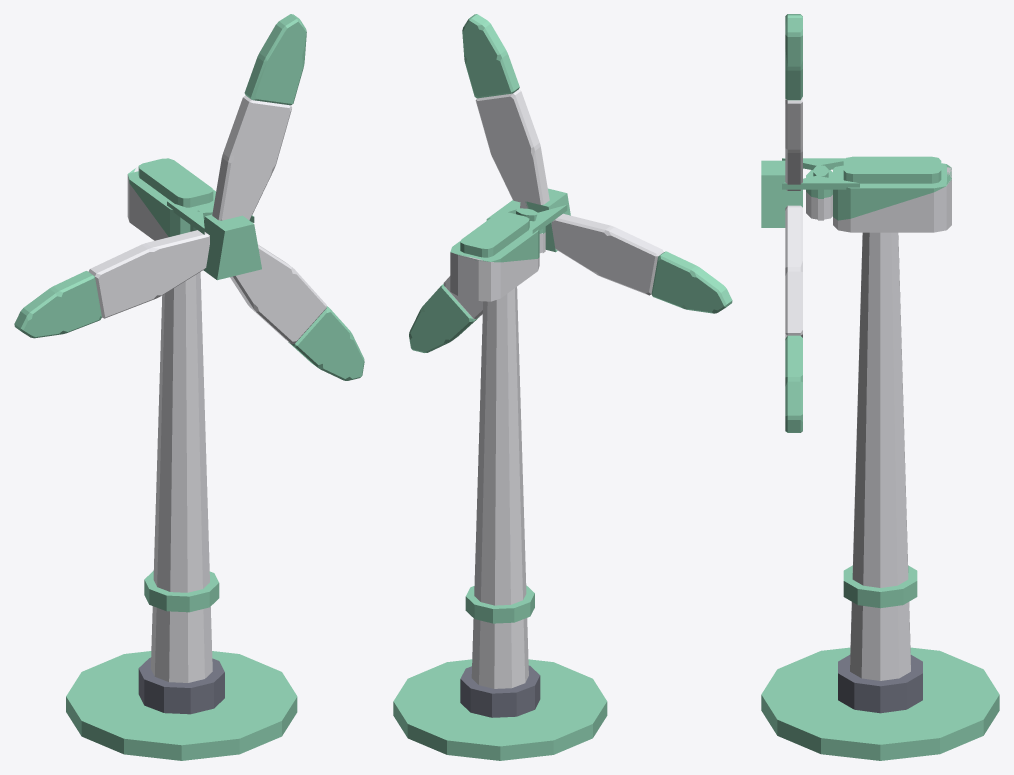
Rendered from windturbine-1x1-t1-tone-a.glb.
The picture shows the model from 3 angles, left to right: view 1: azimuth 30°, elevation 25°; view 2: azimuth 150°, elevation 25°; view 3: azimuth 270°, elevation 25°; orthographic projection. The views are drawn at different scales.
Visible parts, largest first — view 1: windturbine-1x1-t1-tone-a; view 2: windturbine-1x1-t1-tone-a; view 3: windturbine-1x1-t1-tone-a.
Boxes of the visible parts, x1,y1,x2,y2 form: windturbine-1x1-t1-tone-a: (14,14,364,760); windturbine-1x1-t1-tone-a: (393,14,732,760); windturbine-1x1-t1-tone-a: (761,14,999,760).
Bounding box in the file's own units: 0.6865 × 1.35 × 0.4.
Materials: 1 (1 with a texture image).
